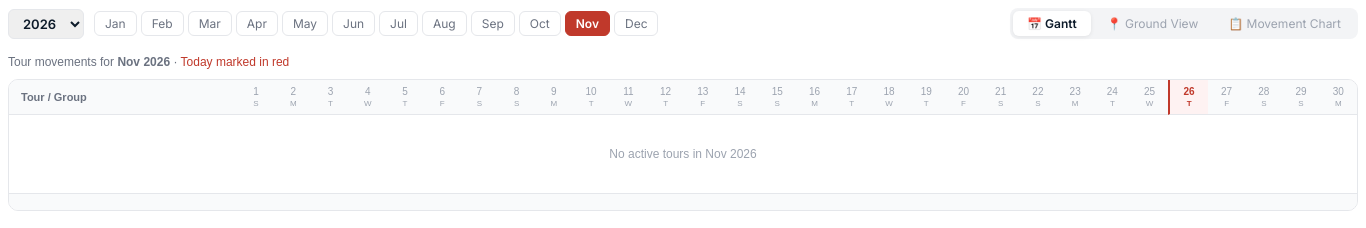
Test: GanttView "Tour Calendar" table: only lists tours whose real dates overlap the selected month › the same tour DOES appear once its own month is selected
Click the button "Dec": {"x": 636, "y": 24} x1=614 y1=11 x2=658 y2=36
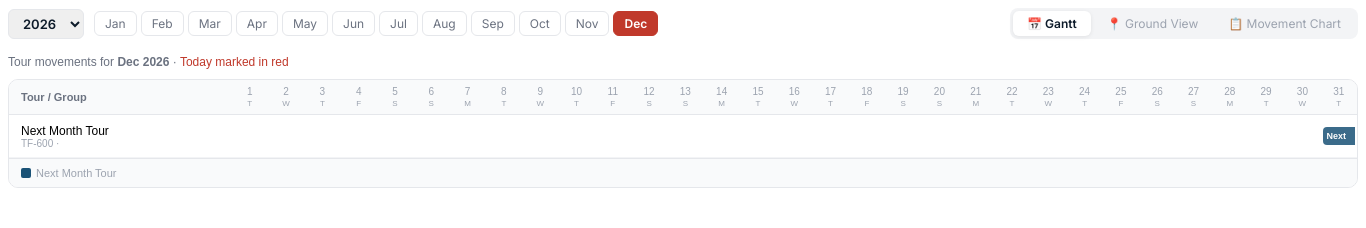
Check: the text "Next Month Tour" is shown, box x1=21 y1=124 x2=109 y2=138
